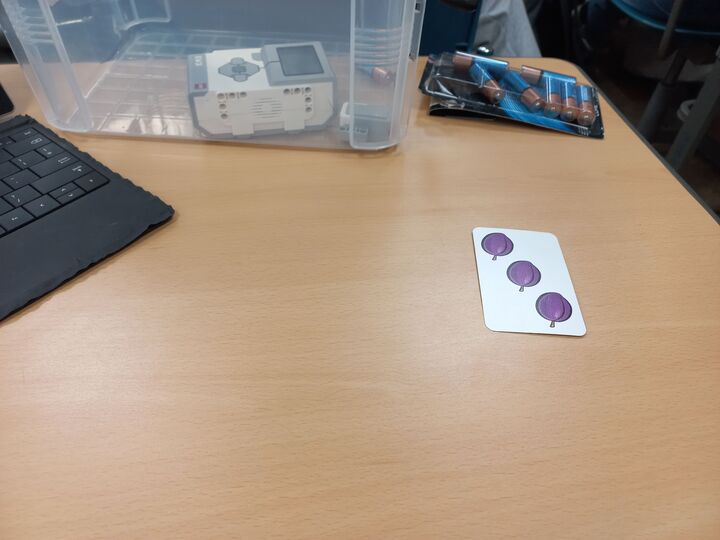plum3: (471, 227, 589, 338)
